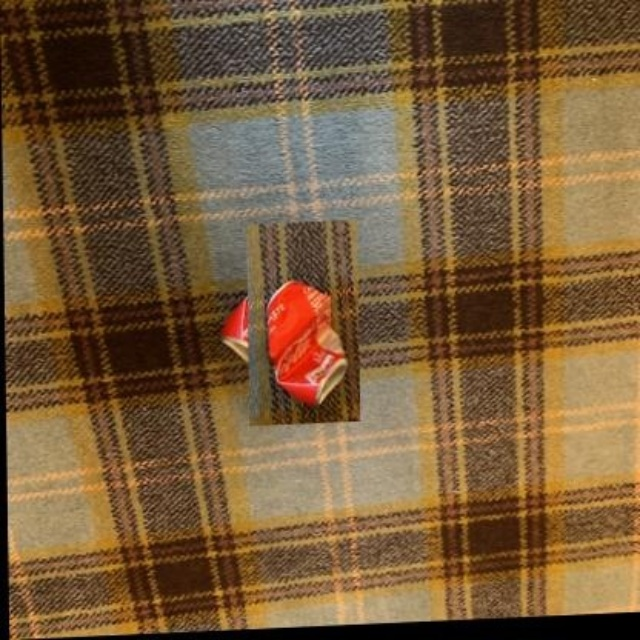trash: (266, 282, 346, 405)
